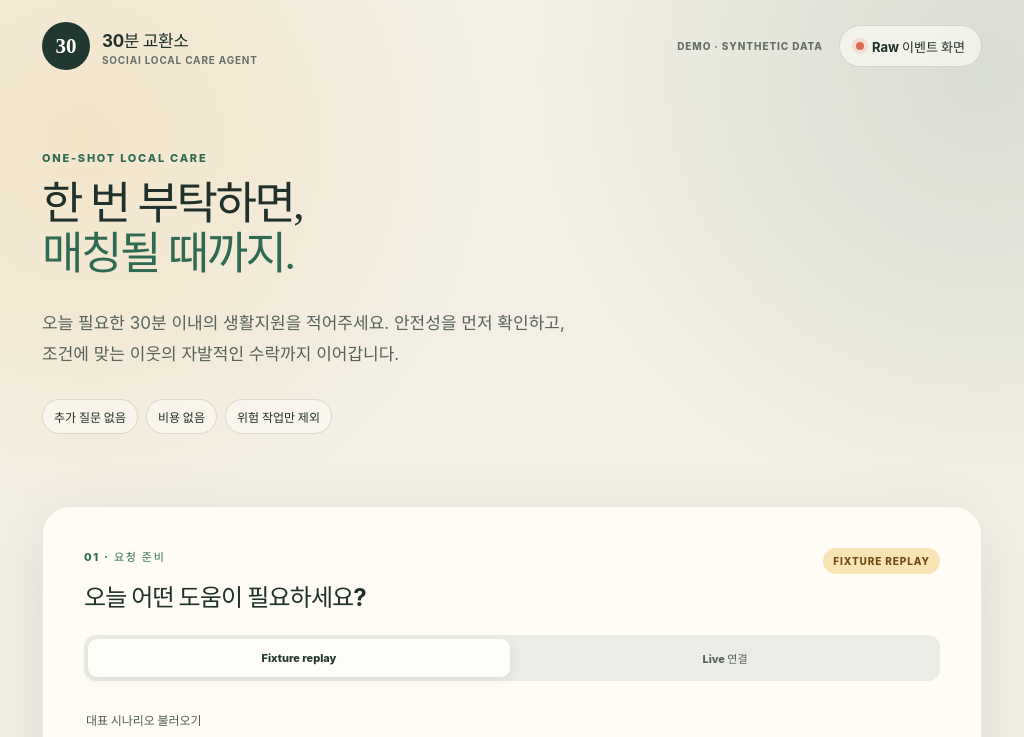
Test case: role 3 demo UI › ends a rejected live start in a recoverable error state
What coordinates should you click on to do the following:
click the button "Live 연결"
I would click on:
 (725, 658)
Its box is [514,639,936,677].
(page scrolled)
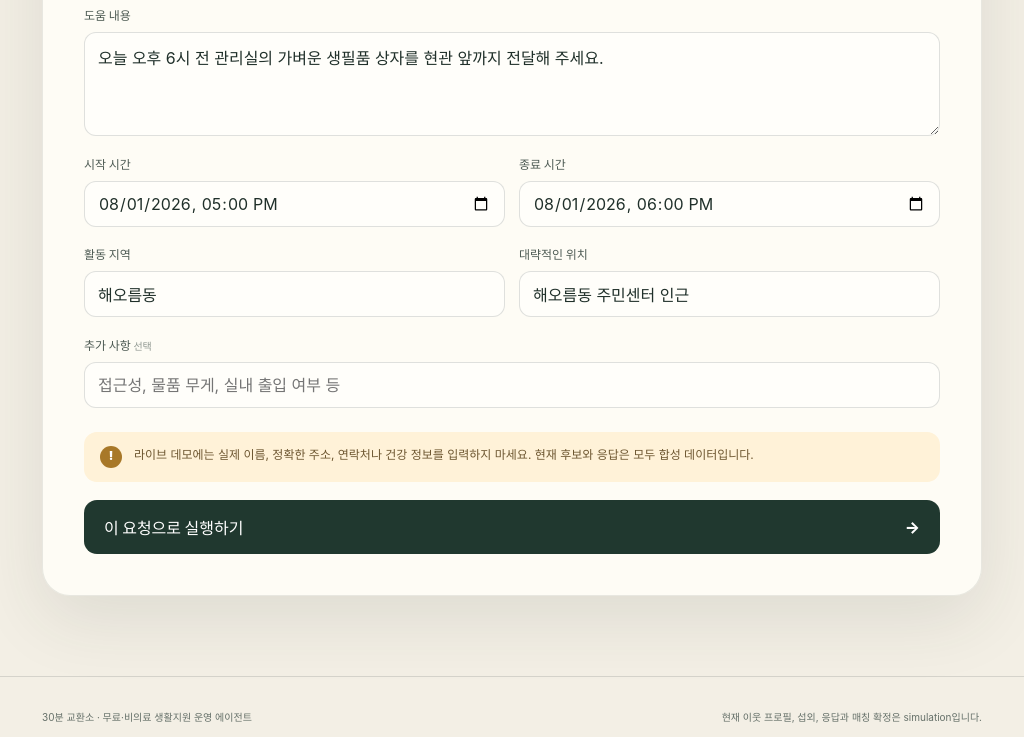
What coordinates should you click on to do the following:
click the button "이 요청으로 실행하기 →"
I would click on:
 (174, 528)
Its box is [84,500,940,554].
(page scrolled)
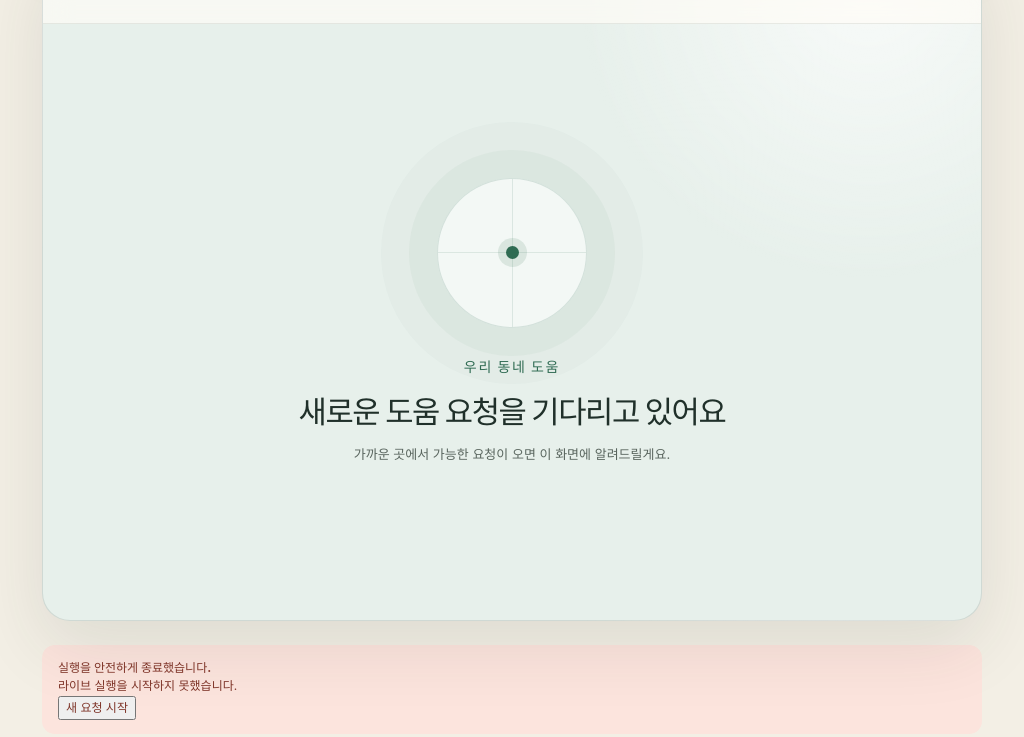
Result: the message shows "라이브 실행을 시작하지 못했습니다." at [58,678,237,693]
Result: the button "새 요청 시작" is shown at [58,696,136,720]
